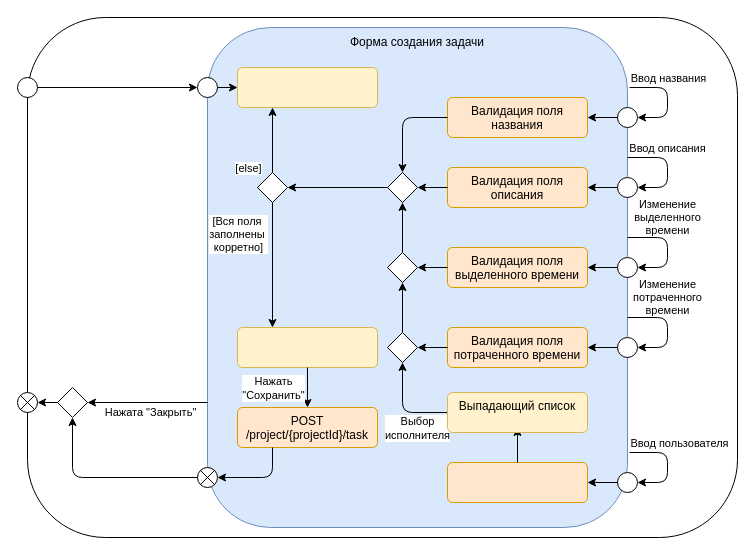
Some shapes in this 755 by 555 pixel diagram are drawn without their labels. Each missing label, with the centre of its shape:
GET /users: pixel 517 482
Кнопка "Сохранить" активна: pixel 307 347
Кнопка "Сохранить" неактивна: pixel 307 87
